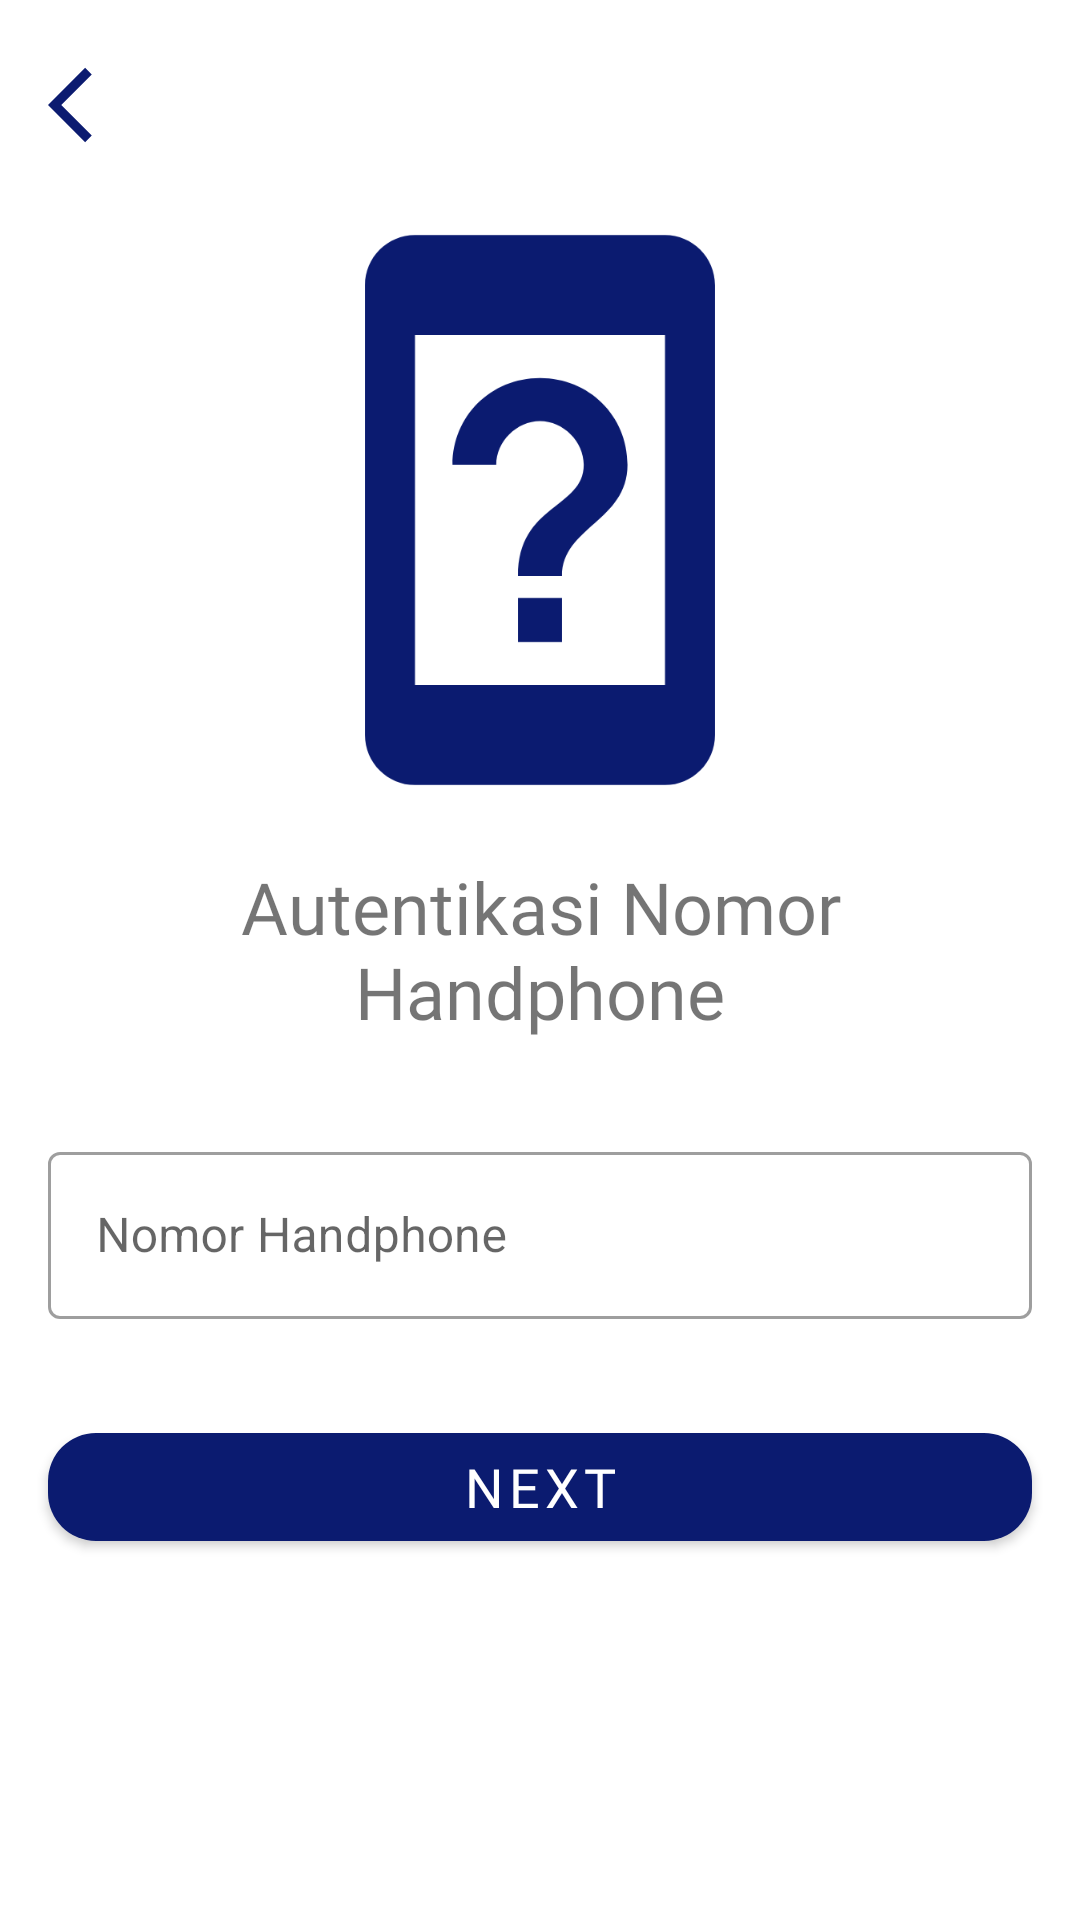

Screen size 1080 × 1920. Icon name, then its center in pixels as [x,y]:
arrow back: [70,105]
